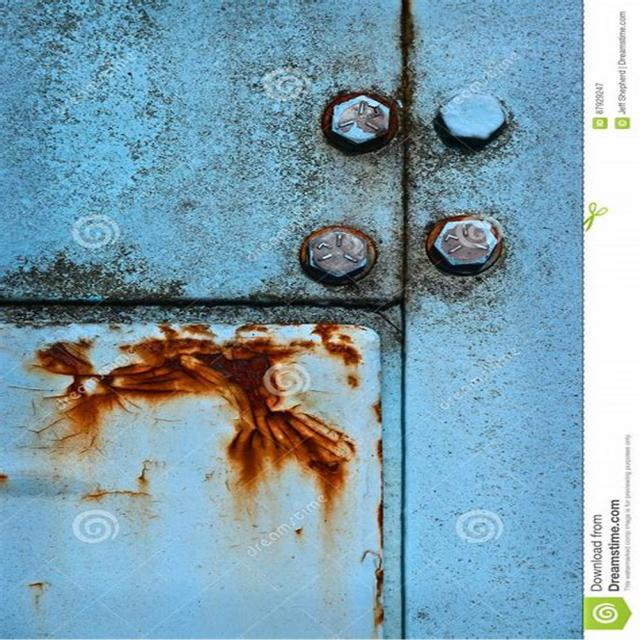bolt head: (438, 91, 510, 144), (431, 218, 502, 268), (327, 93, 393, 146), (303, 228, 370, 278)
